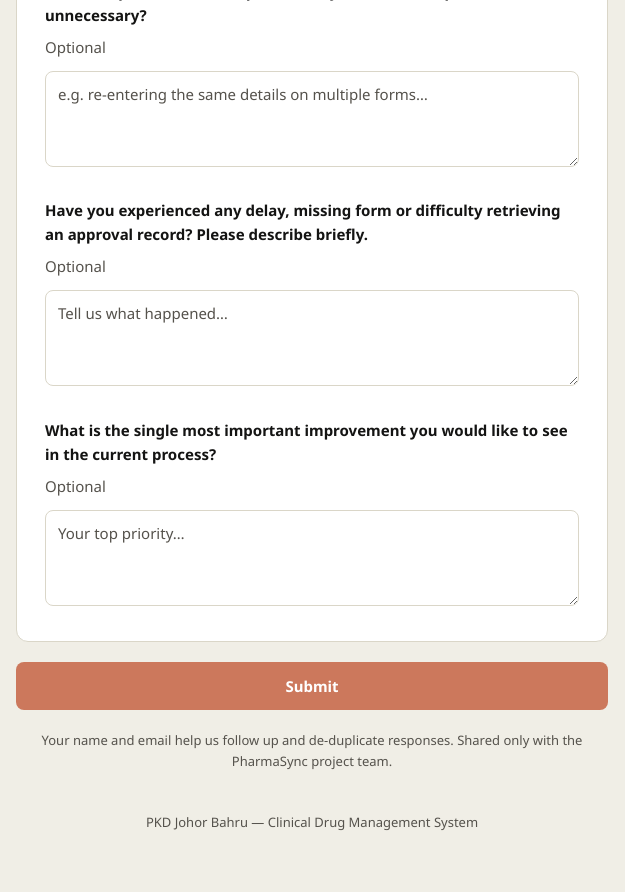
Test: Survey page › blocks submit and shows errors when name, email, role, and Likert answers are missing
(page scrolled)
Click the button "Submit" at (312, 686), box [16, 662, 608, 710]
(page scrolled)
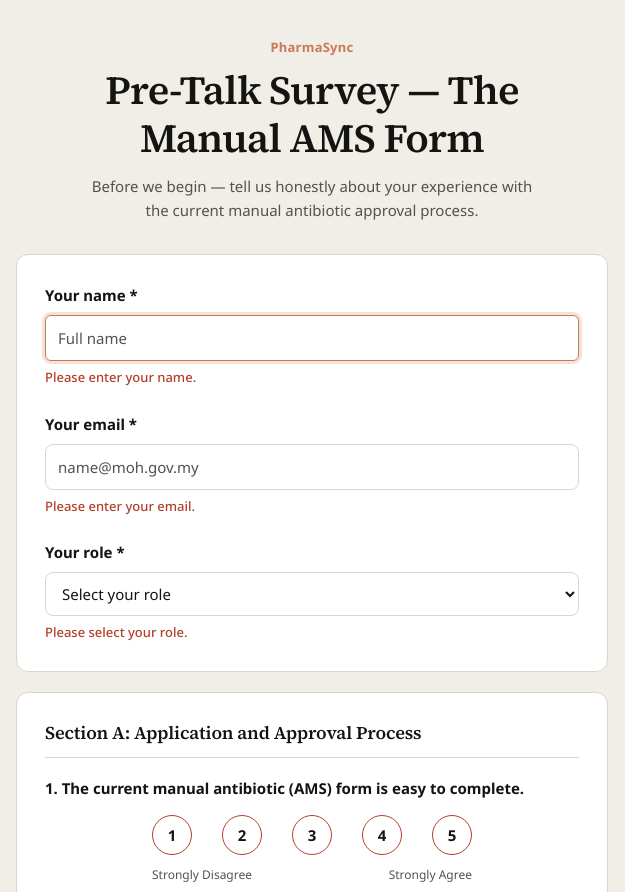
Expected: the text "Please enter your name." is shown, [45, 368, 196, 386]
Expected: the text "Please enter your email." is shown, [45, 497, 195, 515]
Expected: the text "Please select your role." is shown, [45, 623, 188, 641]
